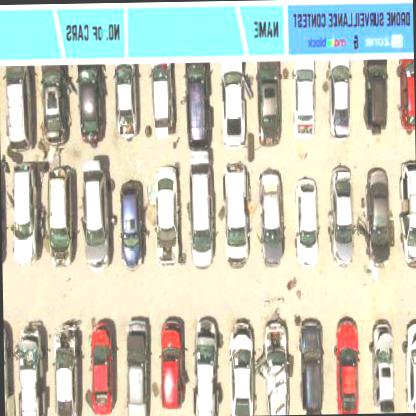car: (14, 318, 48, 415), (256, 318, 289, 414), (49, 322, 81, 415), (79, 157, 106, 267), (153, 164, 181, 266), (188, 150, 212, 268), (87, 320, 116, 415), (225, 316, 253, 414), (192, 317, 220, 415), (331, 316, 359, 413), (45, 166, 72, 266), (9, 159, 35, 262), (363, 165, 389, 265), (256, 167, 283, 263), (124, 319, 151, 415), (158, 316, 186, 408), (4, 66, 34, 150), (327, 164, 352, 263), (223, 164, 247, 266), (368, 321, 394, 412), (299, 318, 324, 412), (219, 60, 245, 148), (76, 64, 104, 144), (41, 64, 68, 146), (395, 158, 415, 268), (118, 180, 142, 270), (294, 178, 318, 266), (256, 61, 280, 146), (362, 57, 388, 135), (292, 60, 316, 138), (184, 62, 206, 145), (328, 58, 350, 140), (114, 64, 138, 138), (150, 62, 172, 138), (399, 318, 415, 412), (396, 58, 414, 132)
